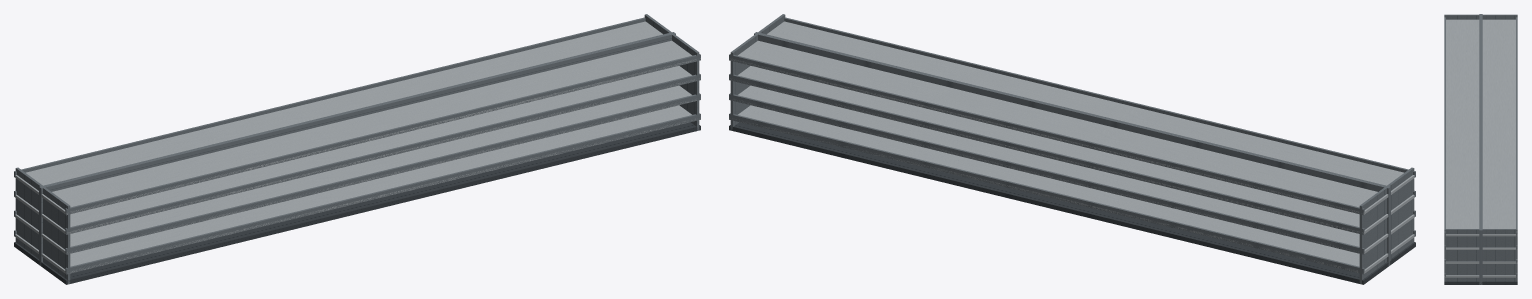
File: Gondola_14x2.obj
3 renders of one model, left to right at view 1: azimuth 30°, elevation 25°; view 2: azimuth 150°, elevation 25°; view 3: azimuth 270°, elevation 25°, orthographic. The views are drawn at different scales.
Visible parts, largest first — view 1: Gondola_14x2; view 2: Gondola_14x2; view 3: Gondola_14x2.
Boxes of the visible parts, x1,y1,x2,y2 form: Gondola_14x2: (14,14,700,284); Gondola_14x2: (729,14,1415,284); Gondola_14x2: (1444,14,1517,284).
Size of the model in its own units: 14 by 1.65 by 2.
3 materials, 3 textured.
